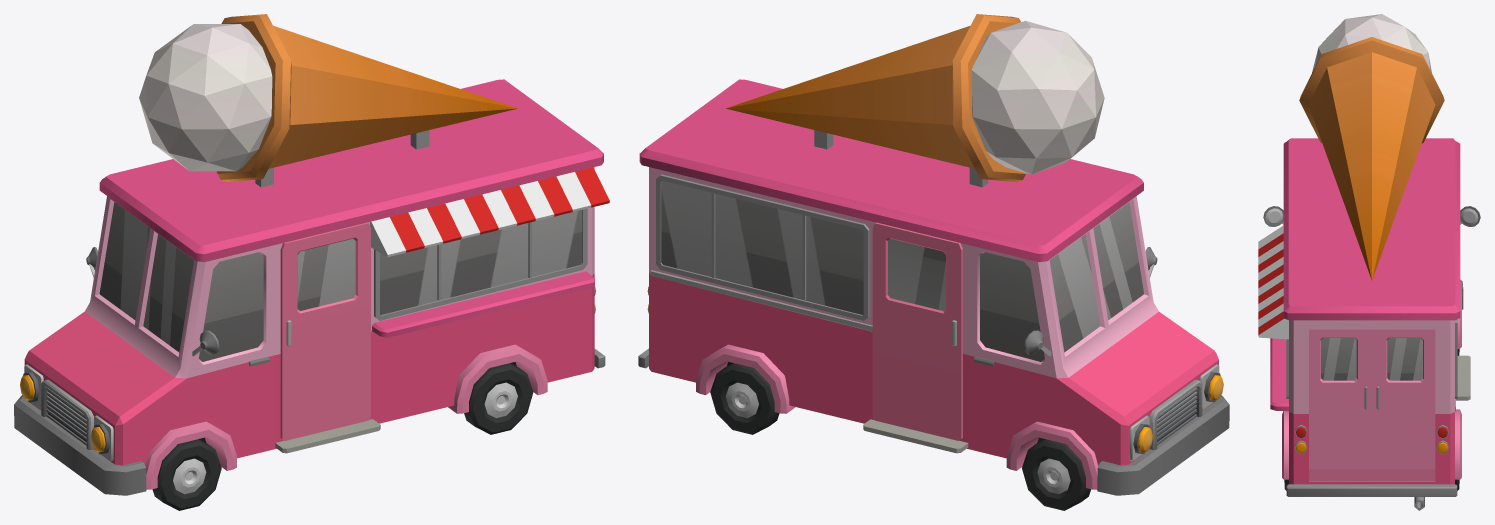
File: IceTruck_1_E.fbx
The picture shows the model from 3 angles, left to right: view 1: azimuth 30°, elevation 25°; view 2: azimuth 150°, elevation 25°; view 3: azimuth 270°, elevation 25°; orthographic projection. The views are drawn at different scales.
Visible parts, largest first — view 1: IceTruck_1_E, RL, FL; view 2: IceTruck_1_E, RR, FR; view 3: IceTruck_1_E.
Boxes of the visible parts, left/top/right/bottom form: IceTruck_1_E: left=14, top=14, right=609, bottom=495; RL: left=464, top=363, right=533, bottom=434; FL: left=152, top=439, right=221, bottom=510; IceTruck_1_E: left=638, top=14, right=1229, bottom=495; RR: left=710, top=363, right=779, bottom=434; FR: left=1022, top=439, right=1090, bottom=510; IceTruck_1_E: left=1258, top=14, right=1480, bottom=510.
Size of the model in its own units: 416 by 338 by 184.
